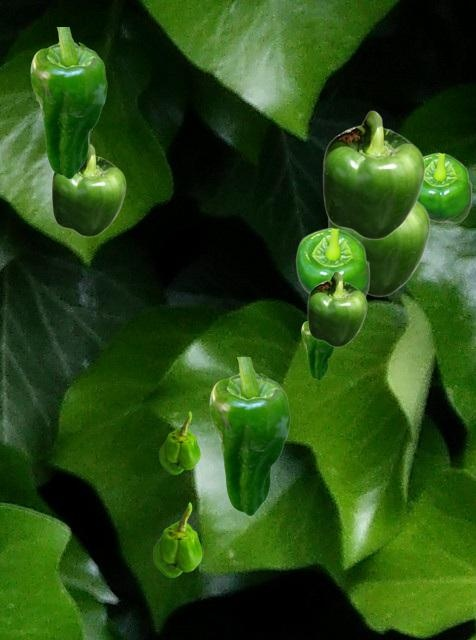bell_pepper: (322, 110, 424, 239), (209, 357, 289, 515), (30, 27, 106, 178), (327, 200, 429, 296), (51, 143, 125, 236), (295, 227, 369, 296), (307, 271, 366, 346), (419, 152, 471, 222), (153, 502, 201, 576), (159, 411, 199, 473), (301, 320, 334, 379)
